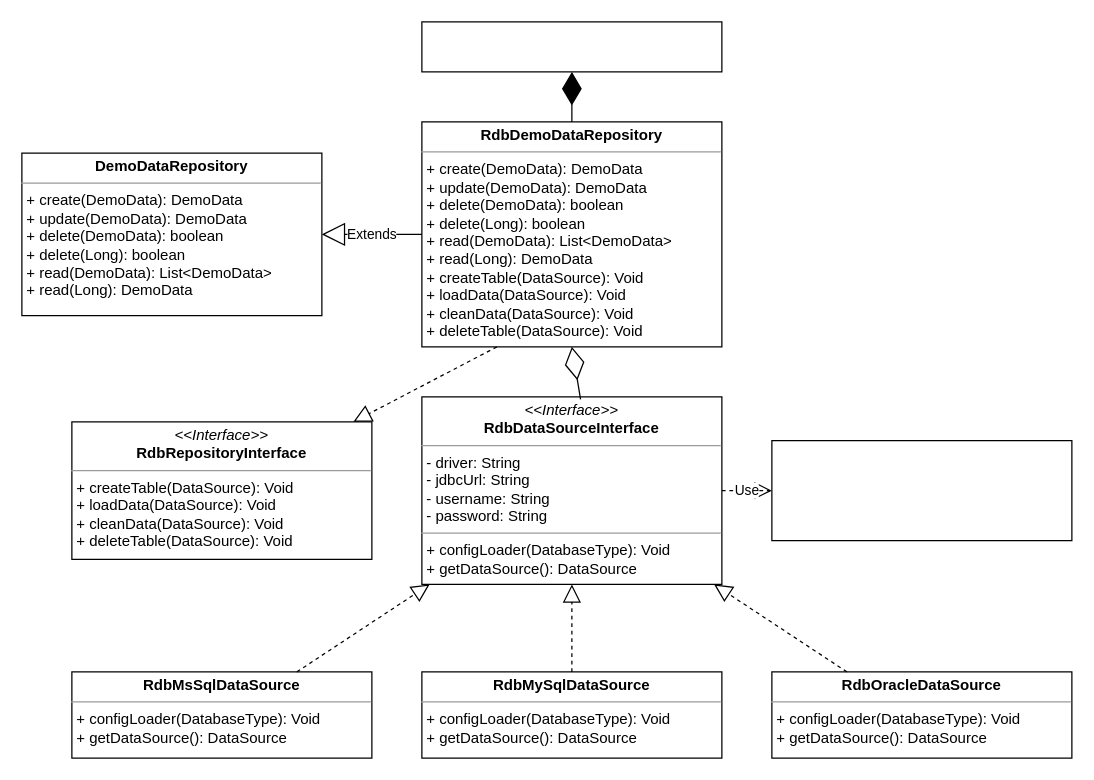
Image size: 1094x780. Some labels were removed from this diagram. Here are the shapes that lost their labels. From the top down, the centre of each, then its label:
(x=571, y=46): DemoDataUnitTest
(x=921, y=490): DatabaseType MySql MsSql Oracle
